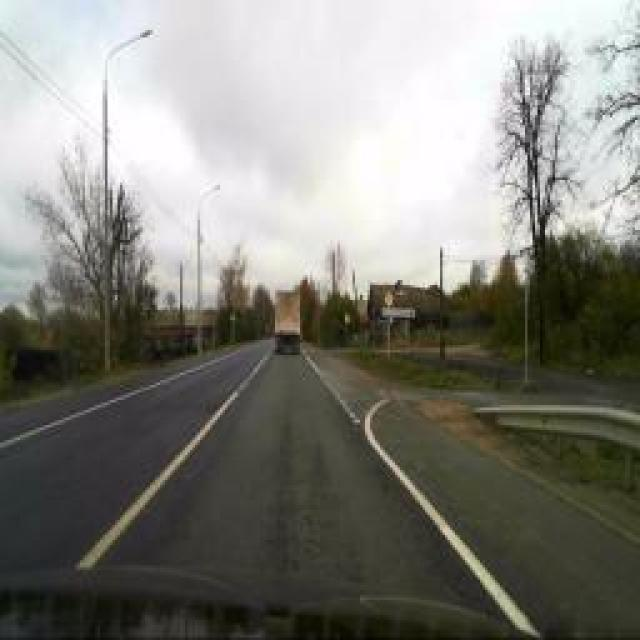sign: (384, 291, 394, 309)
